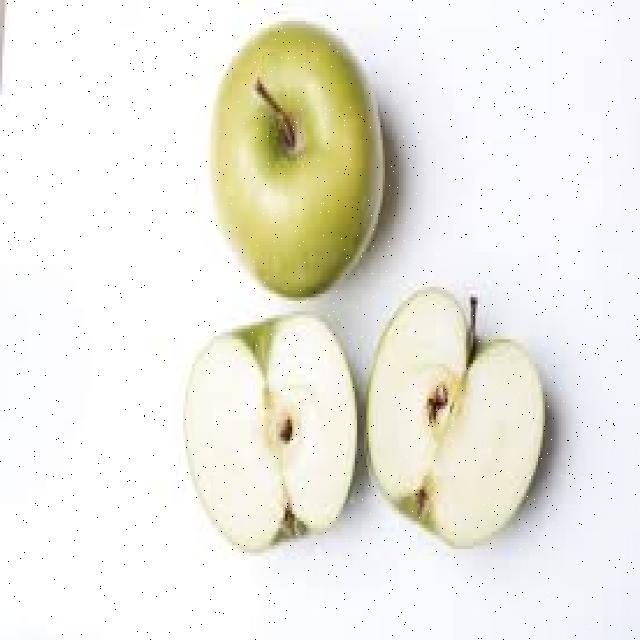Apple: (212, 22, 384, 296), (363, 289, 541, 546), (184, 306, 356, 547)
